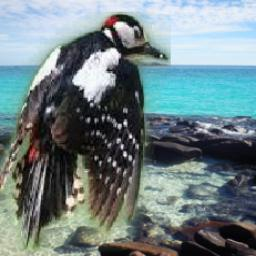Woodpecker: (0, 13, 170, 253)
